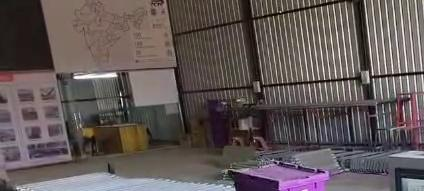box: (233, 164, 328, 190)
